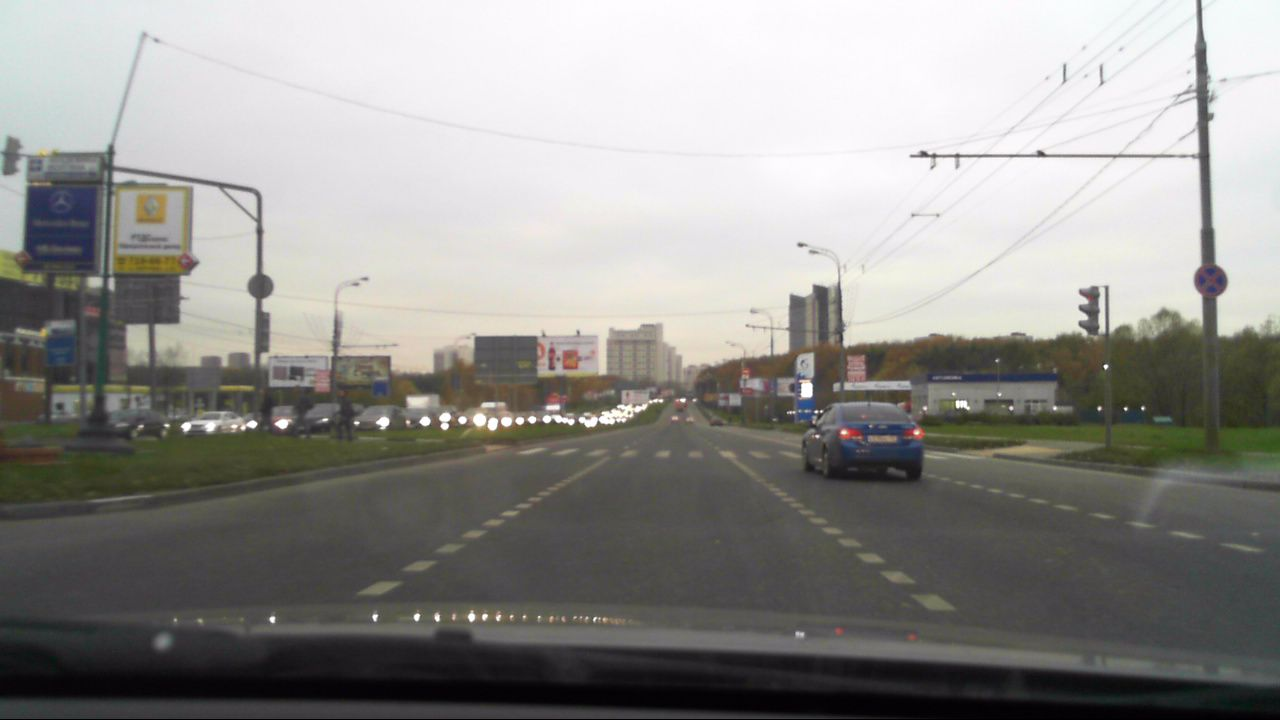No Parking: (1195, 264, 1230, 296)
